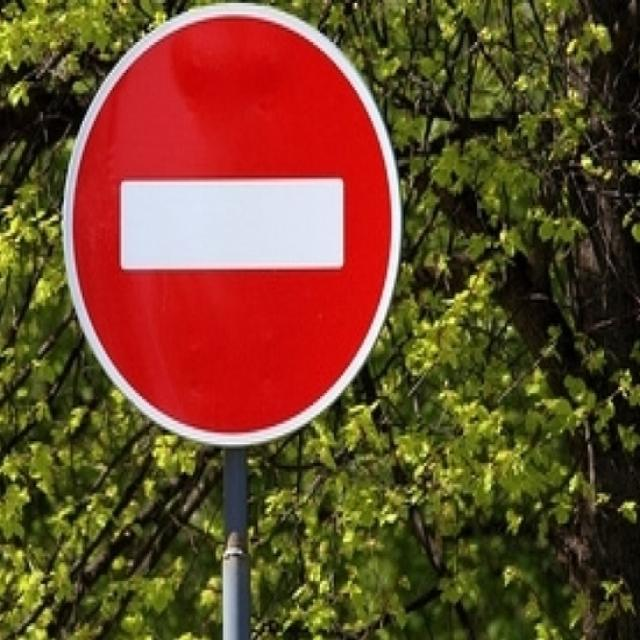no entry: (61, 0, 404, 457)
